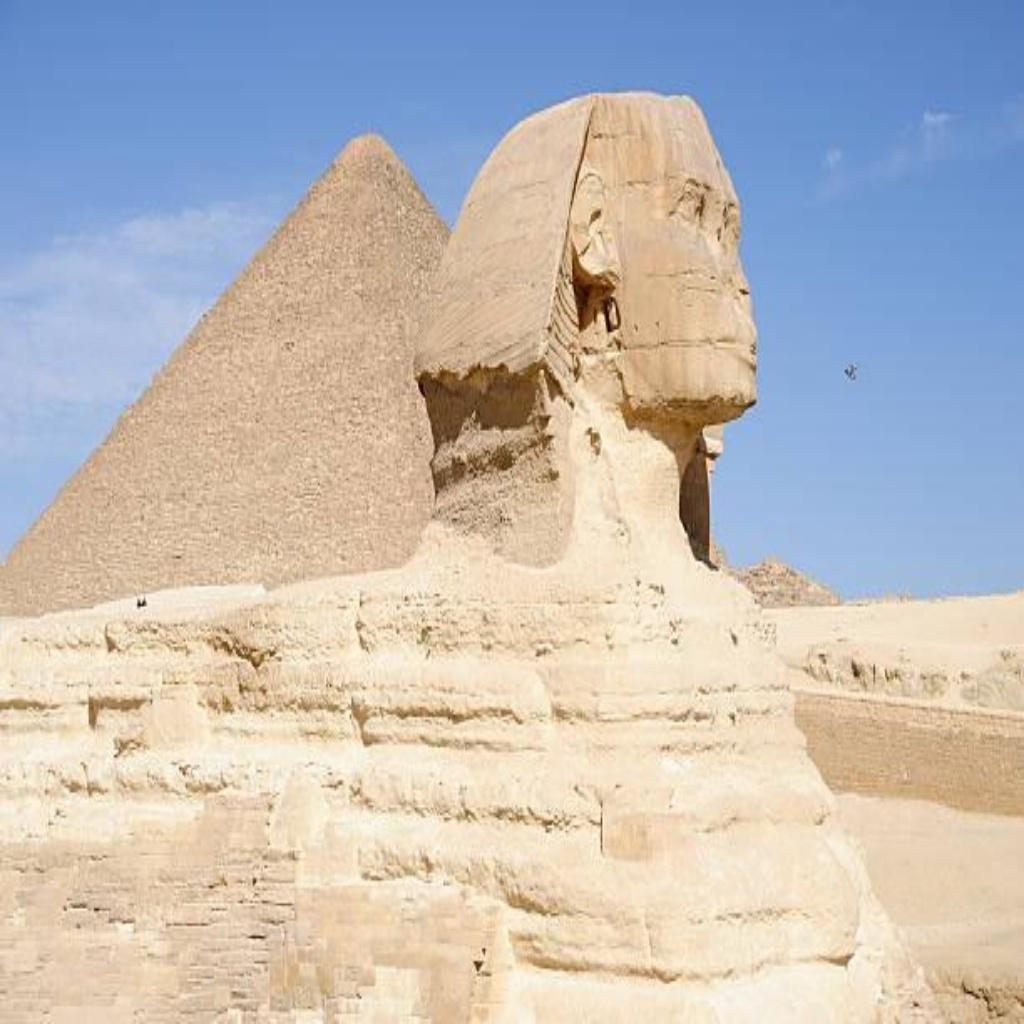Sphinx: (0, 88, 942, 1019), (412, 86, 760, 582)
